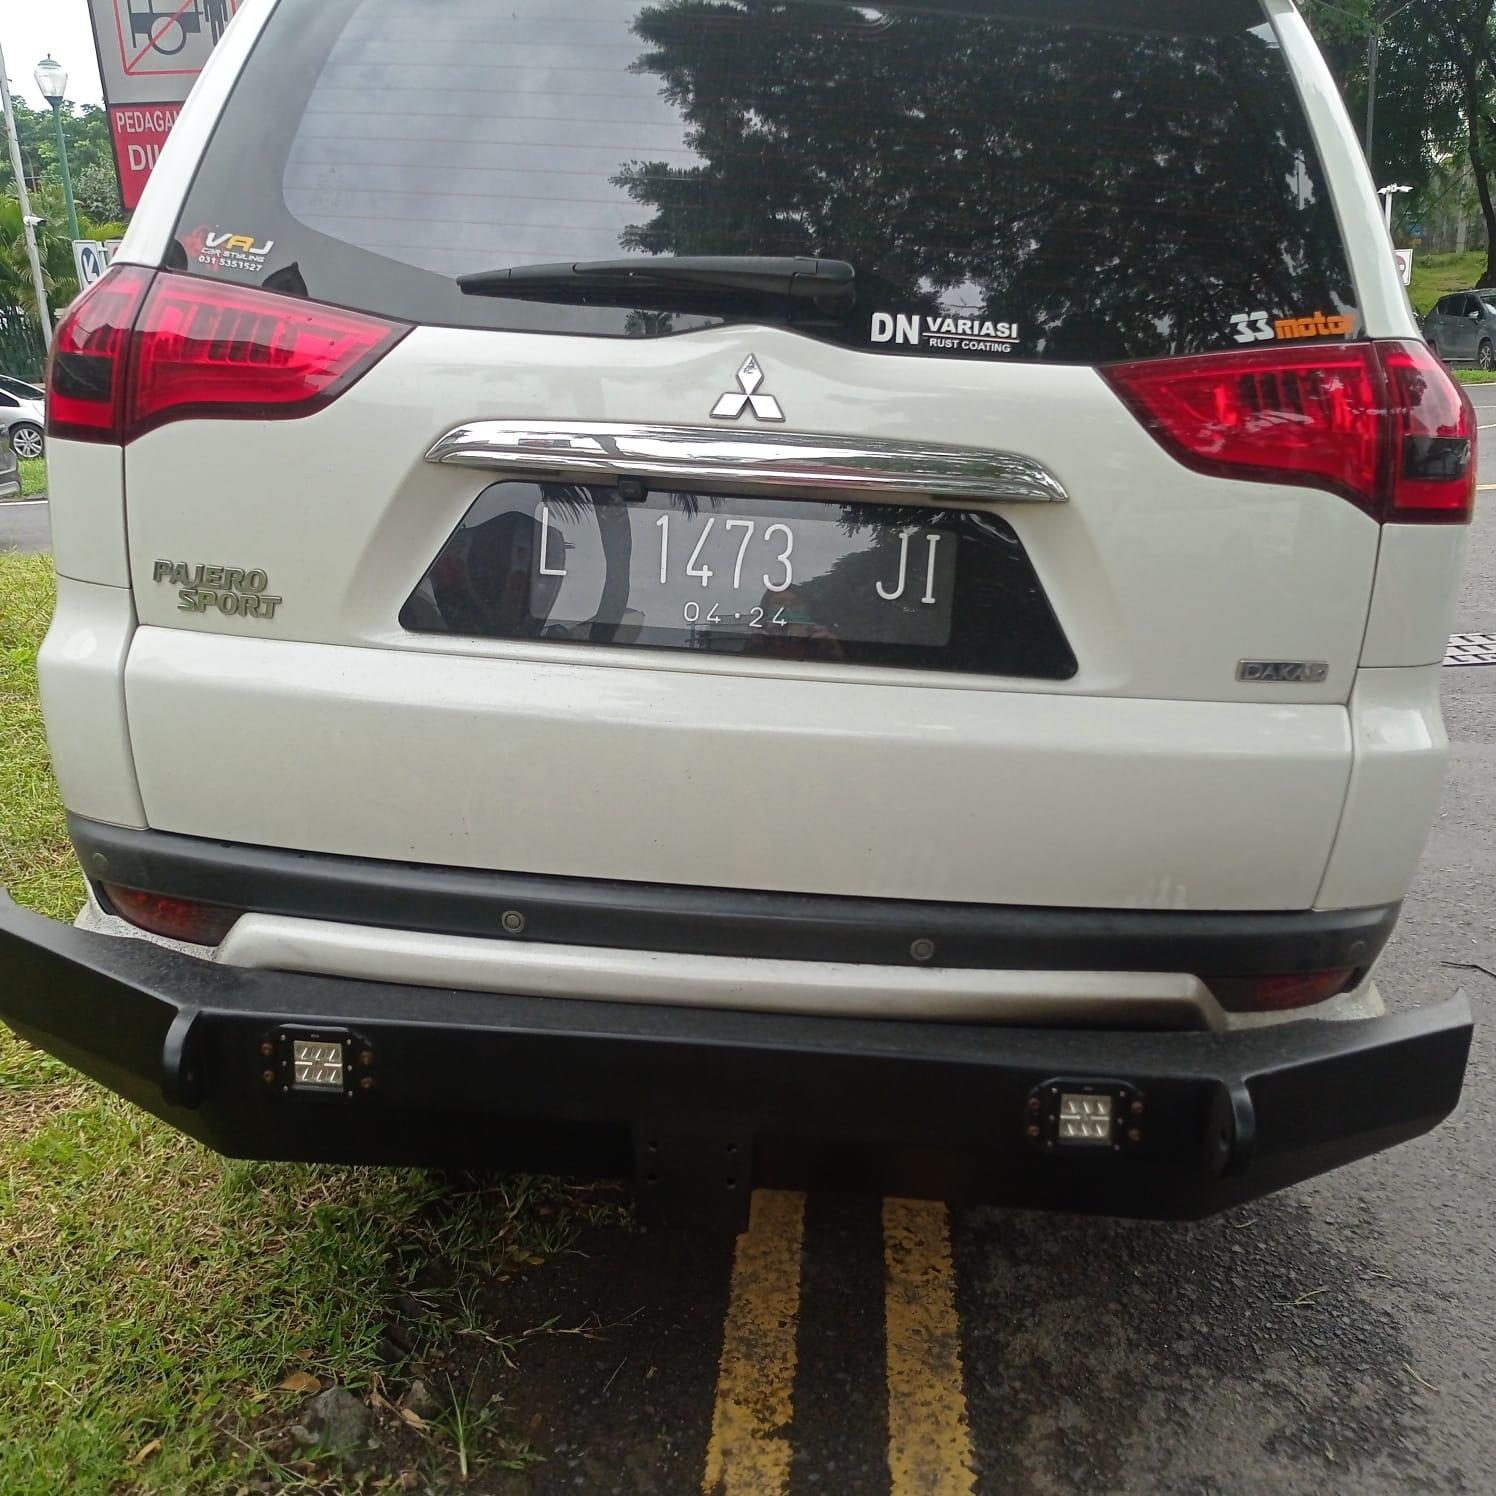plat: (532, 490, 964, 643)
